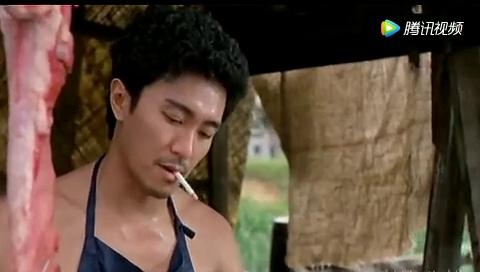smoke: (172, 169, 200, 203)
